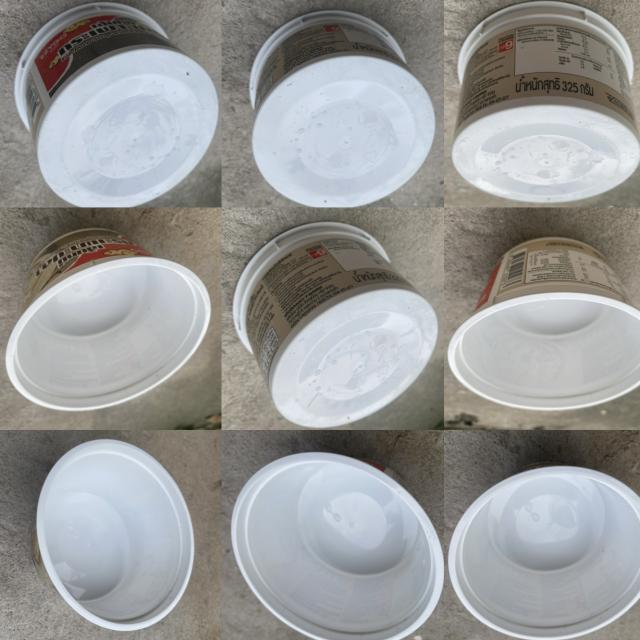plastik: (234, 222, 438, 428), (15, 3, 218, 207), (231, 452, 444, 640), (451, 1, 640, 203), (5, 229, 210, 410), (249, 10, 436, 207), (449, 464, 640, 640), (448, 238, 640, 410), (32, 441, 195, 630)
